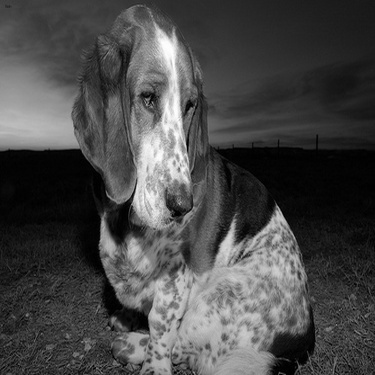dog: (65, 3, 320, 372)
